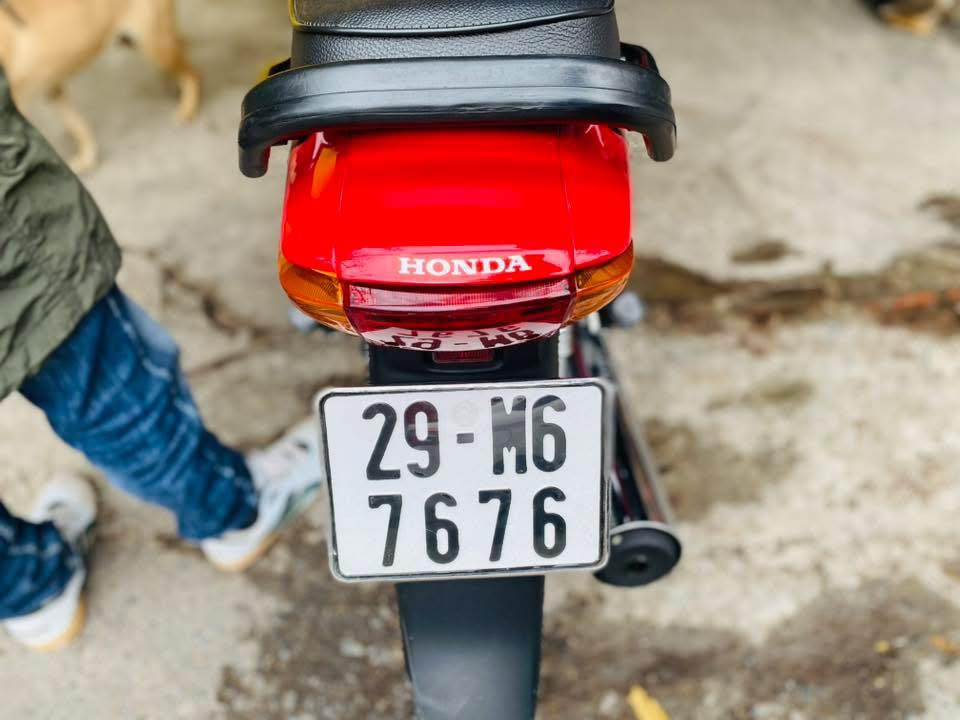bien_so: (309, 373, 620, 589)
